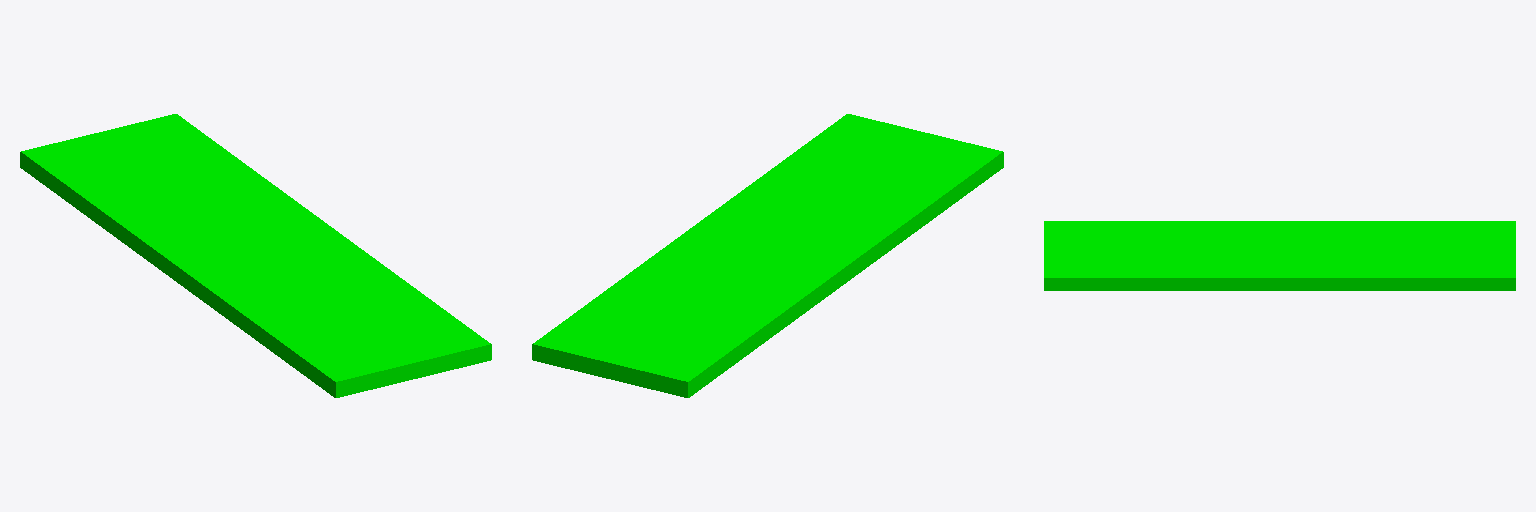
The robot description file, URDF, robot "final":
<robot name="final">
    <link name="meta">
        <inertial>
            <origin xyz="0 0 0" rpy="0.0 0.0 0.0"/>
            <mass value="10.0"/>
            <inertia ixx="1.0" ixy="0.0" ixz="0.0" iyy="1.0" iyz="0.0" izz="1.0"/>
        </inertial>
        <visual name="">
            <origin xyz="0 0 0" rpy="0.0 0.0 0.0"/>
            <geometry>
                <box size="1.0 3.5 0.10"/>
            </geometry>
            <material name="green">
                <color rgba="0.0 1.0 0.0 1.0"/>
                <texture filename=""/>
            </material>
        </visual>
        <collision>
            <origin xyz="0 0 0" rpy="0.0 0.0 0.0"/>
            <geometry>
                <box size="1.0 3.5 0.10"/>
            </geometry>
        </collision>
    </link>    
</robot>

--- Render facts (derived) ---
The picture shows the robot from 3 angles, left to right: view 1: azimuth 30°, elevation 25°; view 2: azimuth 150°, elevation 25°; view 3: azimuth 270°, elevation 25°; orthographic projection.
Model final with 1 links and 0 joints (none), rooted at meta, posed every joint at zero.
Links seen in each view (by area): view 1: meta; view 2: meta; view 3: meta.
Boxes of the visible links, left/top/right/bottom form: meta: left=20, top=114, right=491, bottom=397; meta: left=532, top=114, right=1003, bottom=397; meta: left=1044, top=221, right=1515, bottom=290.
Size in the robot's own frame: 1 by 3.5 by 0.1 metres.
Geometry: primitives only (box / cylinder / sphere), no mesh files.